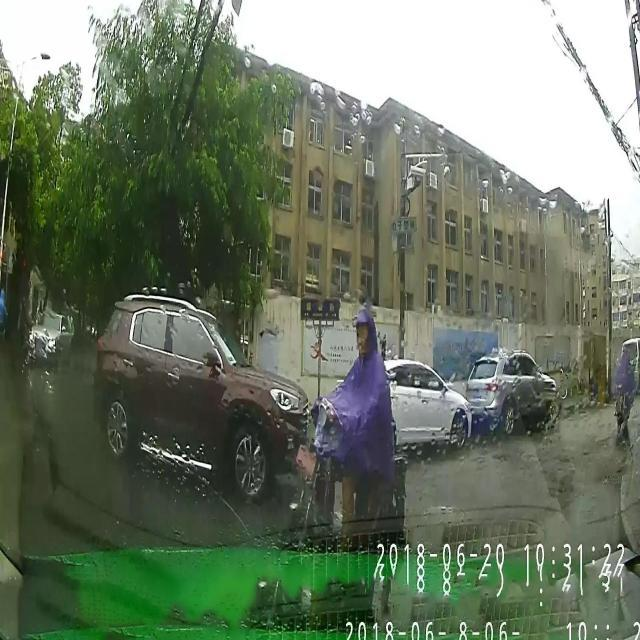car: (94, 294, 308, 498), (381, 360, 472, 450), (464, 351, 558, 434), (26, 312, 74, 369)
